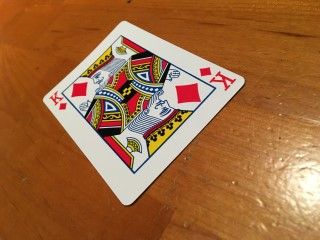KingOfDiamonds: (42, 20, 246, 207)
